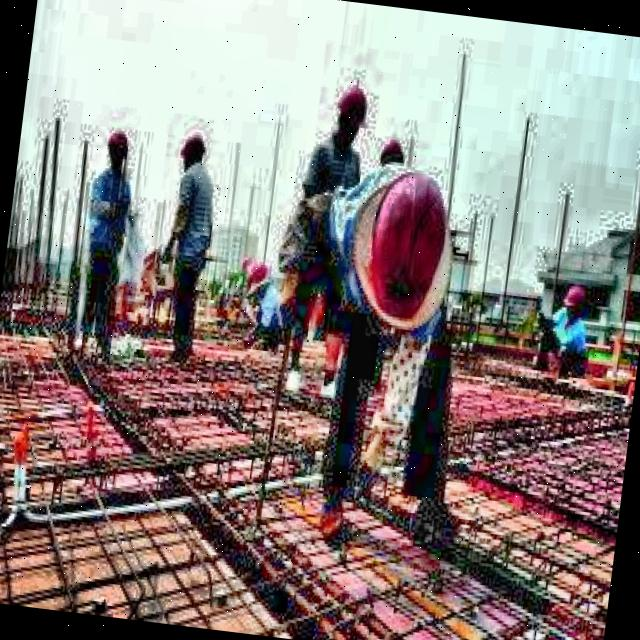helmet: (340, 163, 462, 339), (329, 78, 374, 158), (376, 130, 414, 172), (102, 126, 133, 176), (176, 130, 210, 174), (561, 282, 590, 324)
